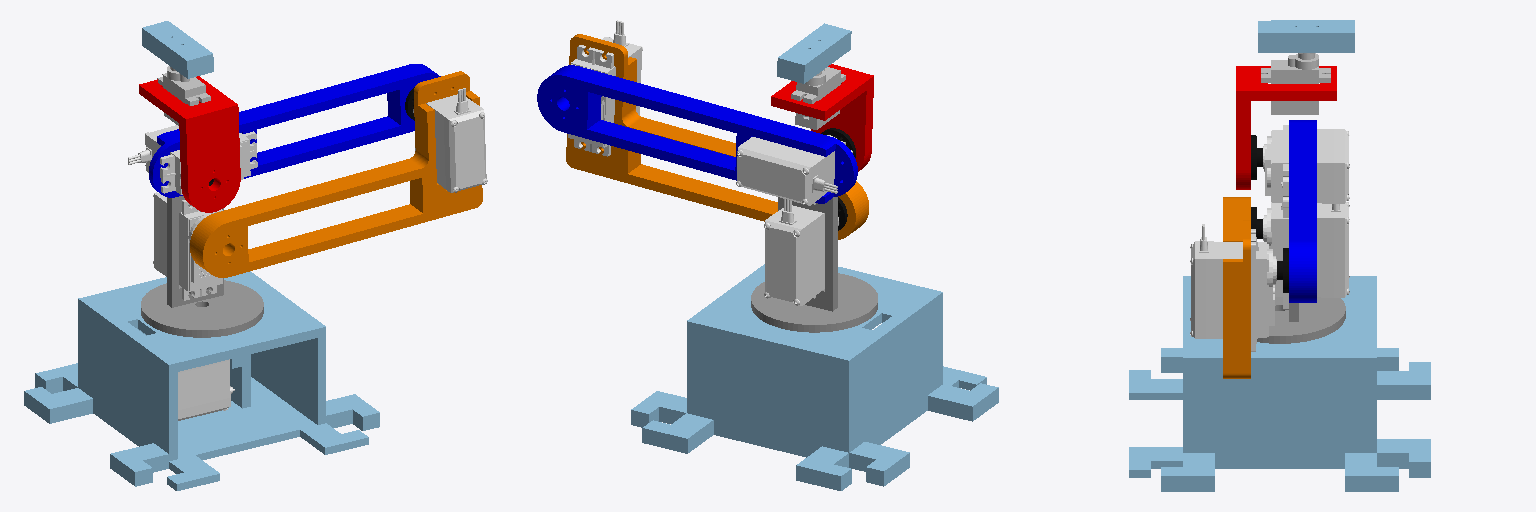
The robot description file, URDF, robot "dummy":
<robot name="dummy">
<link name="base_link"></link>
<joint name="base_link_to_base" type="fixed">
<parent link="base_link"/>
<child link="base" />
<origin rpy="0.0 0 0" xyz="0 0 0"/>
</joint>
<link name="base">
<visual>
<origin xyz="-0.034341769681692418947 -0.029995149875508213266 -0.09598587365390703896" rpy="-2.1394189185610447456e-05 1.2221860805481499953e-06 -1.4862894919532510474e-06" />
<geometry>
<mesh filename="package://dummy_description/model/base.stl"/>
</geometry>
<material name="base_material">
<color rgba="0.61568627450980395466 0.81176470588235294379 0.92941176470588238168 1.0"/>
</material>
</visual>
<collision>
<origin xyz="-0.034341769681692418947 -0.029995149875508213266 -0.09598587365390703896" rpy="-2.1394189185610447456e-05 1.2221860805481499953e-06 -1.4862894919532510474e-06" />
<geometry>
<mesh filename="package://dummy_description/model/base.stl"/>
</geometry>
</collision>
<inertial>
<origin xyz="0 0 0" rpy="0 0 0"/>
<mass value="0" />
<inertia ixx="0" ixy="0"  ixz="0" iyy="0" iyz="0" izz="0" />
</inertial>
</link>

<link name="mg996r_v2">
<visual>
<origin xyz="-0.01450000000000000247 -0.0050000000000000044409 0" rpy="3.141592653589793116 -5.5999995120941965104e-16 -1.5525792356708195226e-23" />
<geometry>
<mesh filename="package://dummy_description/model/mg996r_v2.stl"/>
</geometry>
<material name="mg996r_v2_material">
<color rgba="0.91764705882352937127 0.91764705882352937127 0.91764705882352937127 1.0"/>
</material>
</visual>
<collision>
<origin xyz="-0.01450000000000000247 -0.0050000000000000044409 0" rpy="3.141592653589793116 -5.5999995120941965104e-16 -1.5525792356708195226e-23" />
<geometry>
<mesh filename="package://dummy_description/model/mg996r_v2.stl"/>
</geometry>
</collision>
<inertial>
<origin xyz="-0.024255671585750013947 -0.0050000010606993453011 0.0088504927765015398849" rpy="0 0 0"/>
<mass value="0.055791861264000007503" />
<inertia ixx="8.604419841925513537e-06" ixy="-5.0486636963735341033e-12"  ixz="3.4441859625622045088e-08" iyy="1.4679957311313170841e-05" iyz="-1.0614227360729792485e-12" izz="9.7426395371235840814e-06" />
</inertial>
</link>

<link name="arm_round">
<visual>
<origin xyz="0 0 -0.00060000000000000330846" rpy="7.7307003030005483346e-16 -0 1.3780513642524905222e-19" />
<geometry>
<mesh filename="package://dummy_description/model/arm_round.stl"/>
</geometry>
<material name="arm_round_material">
<color rgba="0.098039215686274508443 0.098039215686274508443 0.098039215686274508443 1.0"/>
</material>
</visual>
<collision>
<origin xyz="0 0 -0.00060000000000000330846" rpy="7.7307003030005483346e-16 -0 1.3780513642524905222e-19" />
<geometry>
<mesh filename="package://dummy_description/model/arm_round.stl"/>
</geometry>
</collision>
<inertial>
<origin xyz="-9.1402416383345846518e-19 1.8365389579204425804e-18 0.0003179644200924597406" rpy="0 0 0"/>
<mass value="0.00045359236799999999665" />
<inertia ixx="1.215985462292992734e-08" ixy="2.006374141744112826e-27"  ixz="2.5564167074989649399e-43" iyy="1.2159854622929907487e-08" iyz="-8.401990311144505363e-24" izz="2.3028399552020600685e-08" />
</inertial>
</link>

<link name="part_1">
<visual>
<origin xyz="-6.9388939039072283776e-18 0 -0.0067499999999999921174" rpy="1.570796326794896558 3.3881317890172013563e-21 -8.3460481704463252107e-20" />
<geometry>
<mesh filename="package://dummy_description/model/part_1.stl"/>
</geometry>
<material name="part_1_material">
<color rgba="0.64705882352941179736 0.64705882352941179736 0.64705882352941179736 1.0"/>
</material>
</visual>
<collision>
<origin xyz="-6.9388939039072283776e-18 0 -0.0067499999999999921174" rpy="1.570796326794896558 3.3881317890172013563e-21 -8.3460481704463252107e-20" />
<geometry>
<mesh filename="package://dummy_description/model/part_1.stl"/>
</geometry>
</collision>
<inertial>
<origin xyz="0 0 0" rpy="0 0 0"/>
<mass value="0" />
<inertia ixx="0" ixy="0"  ixz="0" iyy="0" iyz="0" izz="0" />
</inertial>
</link>

<link name="mg996r_v2_2">
<visual>
<origin xyz="-0.014499999999999999001 0.0050000000000000044409 6.9388939039072283776e-18" rpy="3.141592653589793116 -5.5999719835234107457e-16 0" />
<geometry>
<mesh filename="package://dummy_description/model/mg996r_v2.stl"/>
</geometry>
<material name="mg996r_v2_material">
<color rgba="0.91764705882352937127 0.91764705882352937127 0.91764705882352937127 1.0"/>
</material>
</visual>
<collision>
<origin xyz="-0.014499999999999999001 0.0050000000000000044409 6.9388939039072283776e-18" rpy="3.141592653589793116 -5.5999719835234107457e-16 0" />
<geometry>
<mesh filename="package://dummy_description/model/mg996r_v2.stl"/>
</geometry>
</collision>
<inertial>
<origin xyz="-0.024255671585750010477 0.0049999989393006635807 0.0088504927765015468238" rpy="0 0 0"/>
<mass value="0.055791861264000007503" />
<inertia ixx="8.604419841925513537e-06" ixy="-5.0486636963735365267e-12"  ixz="3.4441859625622045088e-08" iyy="1.4679957311313160677e-05" iyz="-1.0614227360739326469e-12" izz="9.7426395371235840814e-06" />
</inertial>
</link>

<link name="arm_round_2">
<visual>
<origin xyz="4.8572257327350598644e-17 -7.6154360595381831445e-16 -0.00060000000000000330846" rpy="7.7307003030005483346e-16 -1.821120836596745729e-20 6.9388939039072283776e-18" />
<geometry>
<mesh filename="package://dummy_description/model/arm_round.stl"/>
</geometry>
<material name="arm_round_material">
<color rgba="0.098039215686274508443 0.098039215686274508443 0.098039215686274508443 1.0"/>
</material>
</visual>
<collision>
<origin xyz="4.8572257327350598644e-17 -7.6154360595381831445e-16 -0.00060000000000000330846" rpy="7.7307003030005483346e-16 -1.821120836596745729e-20 6.9388939039072283776e-18" />
<geometry>
<mesh filename="package://dummy_description/model/arm_round.stl"/>
</geometry>
</collision>
<inertial>
<origin xyz="4.7658208476428205288e-17 -7.5970707010608227541e-16 0.0003179644200924597406" rpy="0 0 0"/>
<mass value="0.00045359236799999999665" />
<inertia ixx="1.215985462292992734e-08" ixy="1.6875188223089306624e-25"  ixz="-3.9786392105523460438e-28" iyy="1.2159854622929907487e-08" iyz="-8.4020683343970771562e-24" izz="2.3028399552020600685e-08" />
</inertial>
</link>

<link name="seg_one">
<visual>
<origin xyz="0.053705249205231661569 -0.0037678245534087610041 0" rpy="1.570796326794896558 -9.8255821881498839332e-20 0" />
<geometry>
<mesh filename="package://dummy_description/model/seg_one.stl"/>
</geometry>
<material name="seg_one_material">
<color rgba="0.97254901960784312376 0.52941176470588235947 0.0039215686274509803377 1.0"/>
</material>
</visual>
<collision>
<origin xyz="0.053705249205231661569 -0.0037678245534087610041 0" rpy="1.570796326794896558 -9.8255821881498839332e-20 0" />
<geometry>
<mesh filename="package://dummy_description/model/seg_one.stl"/>
</geometry>
</collision>
<inertial>
<origin xyz="0.073771300976812836936 0.0036529407949094810405 -0.0063549844192667065759" rpy="0 0 0"/>
<mass value="0.037612434876134331896" />
<inertia ixx="9.9760979823098223782e-06" ixy="7.6048969708346972273e-06"  ixz="-3.0669320229206095414e-07" iyy="0.00010974651496353991201" iyz="2.5266205993602894391e-07" izz="0.00011864659667601922368" />
</inertial>
</link>

<link name="mg996r_v2_3">
<visual>
<origin xyz="-0.01450000000000000594 -0.0050000000000000044409 0" rpy="-3.141592653589793116 -5.6000058648413009177e-16 0" />
<geometry>
<mesh filename="package://dummy_description/model/mg996r_v2.stl"/>
</geometry>
<material name="mg996r_v2_material">
<color rgba="0.91764705882352937127 0.91764705882352937127 0.91764705882352937127 1.0"/>
</material>
</visual>
<collision>
<origin xyz="-0.01450000000000000594 -0.0050000000000000044409 0" rpy="-3.141592653589793116 -5.6000058648413009177e-16 0" />
<geometry>
<mesh filename="package://dummy_description/model/mg996r_v2.stl"/>
</geometry>
</collision>
<inertial>
<origin xyz="-0.024255671585750017416 -0.0050000010606993453011 0.0088504927765015398849" rpy="0 0 0"/>
<mass value="0.055791861264000007503" />
<inertia ixx="8.604419841925513537e-06" ixy="-5.0486636964753976799e-12"  ixz="3.4441859625622045088e-08" iyy="1.4679957311313160677e-05" iyz="-1.0614227360711142552e-12" izz="9.7426395371235840814e-06" />
</inertial>
</link>

<link name="arm_round_3">
<visual>
<origin xyz="5.5511151231257827021e-17 -7.6327832942979512154e-16 -0.00060000000000000330846" rpy="7.7307003030005483346e-16 -1.6474790824096141595e-19 -1.3877787807814456755e-17" />
<geometry>
<mesh filename="package://dummy_description/model/arm_round.stl"/>
</geometry>
<material name="arm_round_material">
<color rgba="0.098039215686274508443 0.098039215686274508443 0.098039215686274508443 1.0"/>
</material>
</visual>
<collision>
<origin xyz="5.5511151231257827021e-17 -7.6327832942979512154e-16 -0.00060000000000000330846" rpy="7.7307003030005483346e-16 -1.6474790824096141595e-19 -1.3877787807814456755e-17" />
<geometry>
<mesh filename="package://dummy_description/model/arm_round.stl"/>
</geometry>
</collision>
<inertial>
<origin xyz="5.4597228828771282395e-17 -7.6144179358205908251e-16 0.0003179644200924597406" rpy="0 0 0"/>
<mass value="0.00045359236799999999665" />
<inertia ixx="1.215985462292992734e-08" ixy="-2.5312782334633969119e-25"  ixz="4.5561339087447257919e-27" iyy="1.2159854622929907487e-08" iyz="-8.4020683343970771562e-24" izz="2.3028399552020600685e-08" />
</inertial>
</link>

<link name="seg_two">
<visual>
<origin xyz="-0.077810930135565364862 0.0039761346122250060264 0" rpy="1.570796326794896558 3.5151867311053464071e-20 -6.9388939039072283776e-18" />
<geometry>
<mesh filename="package://dummy_description/model/seg_two.stl"/>
</geometry>
<material name="seg_two_material">
<color rgba="0 0 1 1.0"/>
</material>
</visual>
<collision>
<origin xyz="-0.077810930135565364862 0.0039761346122250060264 0" rpy="1.570796326794896558 3.5151867311053464071e-20 -6.9388939039072283776e-18" />
<geometry>
<mesh filename="package://dummy_description/model/seg_two.stl"/>
</geometry>
</collision>
<inertial>
<origin xyz="-0.055769273953286062351 -0.0072499999999999908268 -0.0063626172418654374993" rpy="0 0 0"/>
<mass value="0.029688462028335856763" />
<inertia ixx="3.9557051917307471507e-06" ixy="-5.3559460113775659767e-22"  ixz="3.7971686273580715876e-07" iyy="7.3231611483650041624e-05" iyz="-2.6348150240482701071e-24" izz="7.6338616733640028266e-05" />
</inertial>
</link>

<link name="mg996r_v2_4">
<visual>
<origin xyz="0.034500000000000002887 -0.0050000000000000044409 6.9388939039072283776e-18" rpy="3.141592653589793116 -5.5989682494809143998e-16 0" />
<geometry>
<mesh filename="package://dummy_description/model/mg996r_v2.stl"/>
</geometry>
<material name="mg996r_v2_material">
<color rgba="0.91764705882352937127 0.91764705882352937127 0.91764705882352937127 1.0"/>
</material>
</visual>
<collision>
<origin xyz="0.034500000000000002887 -0.0050000000000000044409 6.9388939039072283776e-18" rpy="3.141592653589793116 -5.5989682494809143998e-16 0" />
<geometry>
<mesh filename="package://dummy_description/model/mg996r_v2.stl"/>
</geometry>
</collision>
<inertial>
<origin xyz="0.02474432841424999141 -0.0050000010606993453011 0.0088504927765015468238" rpy="0 0 0"/>
<mass value="0.055791861264000007503" />
<inertia ixx="8.604419841925513537e-06" ixy="-5.0486636963735349111e-12"  ixz="3.4441859625622045088e-08" iyy="1.4679957311313164065e-05" iyz="-1.0614227360730287259e-12" izz="9.7426395371235840814e-06" />
</inertial>
</link>

<link name="arm_round_4">
<visual>
<origin xyz="4.8572257327350598644e-17 -7.6327832942979512154e-16 -0.00059999999999998943068" rpy="7.729872328294607256e-16 -0 -6.9388939039072283776e-18" />
<geometry>
<mesh filename="package://dummy_description/model/arm_round.stl"/>
</geometry>
<material name="arm_round_material">
<color rgba="0.098039215686274508443 0.098039215686274508443 0.098039215686274508443 1.0"/>
</material>
</visual>
<collision>
<origin xyz="4.8572257327350598644e-17 -7.6327832942979512154e-16 -0.00059999999999998943068" rpy="7.729872328294607256e-16 -0 -6.9388939039072283776e-18" />
<geometry>
<mesh filename="package://dummy_description/model/arm_round.stl"/>
</geometry>
</collision>
<inertial>
<origin xyz="4.7658226943148275499e-17 -7.6144182759970133916e-16 0.0003179644200924736726" rpy="0 0 0"/>
<mass value="0.00045359236799999999665" />
<inertia ixx="1.215985462292992734e-08" ixy="-2.5312782334633950752e-25"  ixz="-1.5604650514491139621e-28" iyy="1.2159854622929904178e-08" iyz="-8.4039285189276586925e-24" izz="2.3028399552020600685e-08" />
</inertial>
</link>

<link name="wrist">
<visual>
<origin xyz="-0.0095673749088002330021 0.0042428395003080363046 -1.3877787807814456755e-17" rpy="1.570796326794896558 -3.3881317890172013563e-21 0" />
<geometry>
<mesh filename="package://dummy_description/model/wrist.stl"/>
</geometry>
<material name="wrist_material">
<color rgba="1 0 0 1.0"/>
</material>
</visual>
<collision>
<origin xyz="-0.0095673749088002330021 0.0042428395003080363046 -1.3877787807814456755e-17" rpy="1.570796326794896558 -3.3881317890172013563e-21 0" />
<geometry>
<mesh filename="package://dummy_description/model/wrist.stl"/>
</geometry>
</collision>
<inertial>
<origin xyz="-0.02123892266227190434 0.007251744678150364061 0.0034385594773949910465" rpy="0 0 0"/>
<mass value="0.015756700876425590307" />
<inertia ixx="3.8723770744738582133e-06" ixy="-5.8386587936273831987e-10"  ixz="1.7778041728369363583e-06" iyy="6.9165476072320897601e-06" iyz="1.9074357937994583022e-10" izz="5.5585937893164216975e-06" />
</inertial>
</link>

<link name="servo-sg90-final">
<visual>
<origin xyz="0 0.024849999999999997091 0.015899999999999997469" rpy="3.141592653589793116 -6.9388939039072283776e-18 1.1498472258977127103e-19" />
<geometry>
<mesh filename="package://dummy_description/model/servo-sg90-final.stl"/>
</geometry>
<material name="servo-sg90-final_material">
<color rgba="0.81960784313725487671 0.81960784313725487671 0.81960784313725487671 1.0"/>
</material>
</visual>
<collision>
<origin xyz="0 0.024849999999999997091 0.015899999999999997469" rpy="3.141592653589793116 -6.9388939039072283776e-18 1.1498472258977127103e-19" />
<geometry>
<mesh filename="package://dummy_description/model/servo-sg90-final.stl"/>
</geometry>
</collision>
<inertial>
<origin xyz="0 0 0" rpy="0 0 0"/>
<mass value="0" />
<inertia ixx="0" ixy="0"  ixz="0" iyy="0" iyz="0" izz="0" />
</inertial>
</link>

<link name="final-2-arms-horn">
<visual>
<origin xyz="0 6.9388939039072283776e-18 -0.0020000000000000156541" rpy="6.9388939039072283776e-18 3.3881317890172013563e-21 -1.9164120431628545171e-20" />
<geometry>
<mesh filename="package://dummy_description/model/final-2-arms-horn.stl"/>
</geometry>
<material name="final-2-arms-horn_material">
<color rgba="0.81960784313725487671 0.81960784313725487671 0.81960784313725487671 1.0"/>
</material>
</visual>
<collision>
<origin xyz="0 6.9388939039072283776e-18 -0.0020000000000000156541" rpy="6.9388939039072283776e-18 3.3881317890172013563e-21 -1.9164120431628545171e-20" />
<geometry>
<mesh filename="package://dummy_description/model/final-2-arms-horn.stl"/>
</geometry>
</collision>
<inertial>
<origin xyz="0 0 0" rpy="0 0 0"/>
<mass value="0" />
<inertia ixx="0" ixy="0"  ixz="0" iyy="0" iyz="0" izz="0" />
</inertial>
</link>

<link name="ee">
<visual>
<origin xyz="-0.0033949863910675143197 0.0081407796735145504519 0" rpy="3.141592653589793116 3.3881317890172013563e-21 7.4433020239971642296e-20" />
<geometry>
<mesh filename="package://dummy_description/model/ee.stl"/>
</geometry>
<material name="ee_material">
<color rgba="0.61568627450980395466 0.81176470588235294379 0.92941176470588238168 1.0"/>
</material>
</visual>
<collision>
<origin xyz="-0.0033949863910675143197 0.0081407796735145504519 0" rpy="3.141592653589793116 3.3881317890172013563e-21 7.4433020239971642296e-20" />
<geometry>
<mesh filename="package://dummy_description/model/ee.stl"/>
</geometry>
</collision>
<inertial>
<origin xyz="0 0 0" rpy="0 0 0"/>
<mass value="0" />
<inertia ixx="0" ixy="0"  ixz="0" iyy="0" iyz="0" izz="0" />
</inertial>
</link>

<joint name="ee" type="fixed">
<origin xyz="-0.0050000000000000044409 6.9388939039072283776e-18 -0.0020000000000000156541" rpy="2.0816681711721675888e-17 3.5182360497154520276e-17 -8.5796560150450912835e-16" />
<parent link="final-2-arms-horn" />
<child link="ee" />
<axis xyz="0 0 1"/>
<limit effort="1" velocity="20" />
<joint_properties friction="0.0"/>
</joint>

<joint name="wristr" type="revolute">
<origin xyz="6.9388939039072283776e-18 0.0082499999999999934497 -0.013999999999999998557" rpy="1.2004286453759497205e-15 -6.8497860378561265184e-17 -1.5707963207310067233" />
<parent link="servo-sg90-final" />
<child link="final-2-arms-horn" />
<axis xyz="0 0 1"/>
<limit effort="1" velocity="20" lower="0" upper="3.141592653589793116"/>
<joint_properties friction="0.0"/>
</joint>

<joint name="wristr_mount" type="fixed">
<origin xyz="-0.039999999999999980016 0.0072500000000000064393 0.034000000000000009381" rpy="-1.570796326794896558 -5.8966664491229107969e-16 -1.570796326794896558" />
<parent link="wrist" />
<child link="servo-sg90-final" />
<axis xyz="0 0 1"/>
<limit effort="1" velocity="20" />
<joint_properties friction="0.0"/>
</joint>

<joint name="wrist_mount" type="fixed">
<origin xyz="4.1633363423443370266e-17 0.0071999999999992347899 0.0019000000000000266676" rpy="3.141592653589793116 1.9587128685487484756e-15 -7.8409501114152252592e-16" />
<parent link="arm_round_4" />
<child link="wrist" />
<axis xyz="0 0 1"/>
<limit effort="1" velocity="20" />
<joint_properties friction="0.0"/>
</joint>

<joint name="wrist" type="revolute">
<origin xyz="0.034538107933987871601 -0.0050000032706329772259 -0.01549999999999999295" rpy="-3.1415926535897855665 8.3616720860691773698e-16 -1.5707963267948976682" />
<parent link="mg996r_v2_4" />
<child link="arm_round_4" />
<axis xyz="0 0 1"/>
<limit effort="1" velocity="20" lower="-0" upper="3.141592653589793116"/>
<joint_properties friction="0.0"/>
</joint>

<joint name="wrist_servo" type="fixed">
<origin xyz="-0.099000000000000018541 -0.0022499999999999881206 0" rpy="-3.1415926535897926719 5.0856376960828415199e-16 -3.141592653589793116" />
<parent link="seg_two" />
<child link="mg996r_v2_4" />
<axis xyz="0 0 1"/>
<limit effort="1" velocity="20" />
<joint_properties friction="0.0"/>
</joint>

<joint name="forearm_mount" type="fixed">
<origin xyz="5.5511151231257827021e-17 -0.0072000000000007613465 0.0018999999999999919731" rpy="-3.1415926535897926719 -6.6629369224388344028e-16 0" />
<parent link="arm_round_3" />
<child link="seg_two" />
<axis xyz="0 0 1"/>
<limit effort="1" velocity="20" />
<joint_properties friction="0.0"/>
</joint>

<joint name="elbow" type="revolute">
<origin xyz="-0.014461892066012123348 -0.0050000032706329772259 -0.01549999999999999295" rpy="-3.141592653589793116 -2.8072184884609522565e-15 -1.5707963267949354158" />
<parent link="mg996r_v2_3" />
<child link="arm_round_3" />
<axis xyz="0 0 1"/>
<limit effort="1" velocity="20" lower="-0" upper="3.141592653589793116"/>
<joint_properties friction="0.0"/>
</joint>

<joint name="elbow_servo" type="fixed">
<origin xyz="0.125 -0.041750000000000016265 0" rpy="-3.1415926535897913396 -1.0939599920378727413e-16 -1.570796326794896558" />
<parent link="seg_one" />
<child link="mg996r_v2_3" />
<axis xyz="0 0 1"/>
<limit effort="1" velocity="20" />
<joint_properties friction="0.0"/>
</joint>

<joint name="shoulder_horn" type="fixed">
<origin xyz="4.8572257327350598644e-17 0.0071999999999992417288 0.001899999999999998912" rpy="-3.1415926535897917837 4.1494132382737779046e-17 5.5511151231256939553e-17" />
<parent link="arm_round_2" />
<child link="seg_one" />
<axis xyz="0 0 1"/>
<limit effort="1" velocity="20" />
<joint_properties friction="0.0"/>
</joint>

<joint name="shoulder" type="revolute">
<origin xyz="-0.01446189206601211294 0.0049999967293670177781 -0.015499999999999979072" rpy="3.1415926535897926719 -4.5286110422765151629e-15 1.5367034096982505886" />
<parent link="mg996r_v2_2" />
<child link="arm_round_2" />
<axis xyz="0 0 1"/>
<limit effort="1" velocity="20" lower="-0" upper="3.141592653589793116"/>
<joint_properties friction="0.0"/>
</joint>

<joint name="shoulder_joint" type="fixed">
<origin xyz="-0.0039999999999999688582 0.0050000000000000113798 -0.065749999999999989009" rpy="-3.141592653589793116 1.570796326794896558 0" />
<parent link="part_1" />
<child link="mg996r_v2_2" />
<axis xyz="0 0 1"/>
<limit effort="1" velocity="20" />
<joint_properties friction="0.0"/>
</joint>

<joint name="joint" type="fixed">
<origin xyz="4.1633363423443370266e-17 4.1633363423443370266e-17 0.0019000000000000058509" rpy="-3.141592653589793116 7.0439937520025449219e-16 -1.570796326794896558" />
<parent link="arm_round" />
<child link="part_1" />
<axis xyz="0 0 1"/>
<limit effort="1" velocity="20" />
<joint_properties friction="0.0"/>
</joint>

<joint name="torso" type="revolute">
<origin xyz="-0.01446189206601211294 -0.0050000032706329772259 -0.01549999999999999295" rpy="-3.141592653589793116 -5.8824087670381847472e-16 -0.00060706039085584560539" />
<parent link="mg996r_v2" />
<child link="arm_round" />
<axis xyz="0 0 1"/>
<limit effort="1" velocity="20" lower="-2.356194490192344837" upper="0.785398163397448279"/>
<joint_properties friction="0.0"/>
</joint>

<joint name="servo_joint" type="fixed">
<origin xyz="-0.028538075398620611767 -0.060918143323766021924 -0.062985219167393094453" rpy="3.141571259400607552 1.2221860805481506306e-06 -1.4862894919532512592e-06" />
<parent link="base" />
<child link="mg996r_v2" />
<axis xyz="0 0 1"/>
<limit effort="1" velocity="20" />
<joint_properties friction="0.0"/>
</joint>


</robot>

--- Render facts (derived) ---
The picture shows the robot from 3 angles, left to right: view 1: azimuth 30°, elevation 25°; view 2: azimuth 150°, elevation 25°; view 3: azimuth 270°, elevation 25°; orthographic projection.
Robot: dummy — 17 links, 16 joints (5 revolute, 11 fixed); root link base_link; default pose: all joints at 0.
Links seen in each view (by area): view 1: base, seg_one, seg_two, wrist, part_1, mg996r_v2_3, mg996r_v2_2, mg996r_v2, ee, mg996r_v2_4, servo-sg90-final; view 2: base, seg_two, seg_one, part_1, mg996r_v2_2, mg996r_v2_4, wrist, ee, mg996r_v2_3, servo-sg90-final; view 3: base, mg996r_v2_3, seg_two, seg_one, mg996r_v2_2, mg996r_v2_4, wrist, ee, part_1, servo-sg90-final.
Boxes of the visible links, x1,y1,x2,y2 form: base: (24,271,379,490); seg_one: (190,71,482,277); seg_two: (149,64,440,197); wrist: (139,76,240,212); part_1: (141,196,263,337); mg996r_v2_3: (413,88,487,192); mg996r_v2_2: (153,192,222,300); mg996r_v2: (178,359,234,420); ee: (142,21,213,78); mg996r_v2_4: (128,125,257,194); servo-sg90-final: (157,66,210,125); base: (631,264,998,490); seg_two: (537,65,857,203); seg_one: (566,34,868,239); part_1: (751,197,877,332); mg996r_v2_2: (764,199,838,305); mg996r_v2_4: (736,124,852,205); wrist: (771,64,873,171); ee: (777,23,851,83); mg996r_v2_3: (568,20,642,156); servo-sg90-final: (791,67,845,129); base: (1129,276,1430,491); mg996r_v2_3: (1190,224,1276,351); seg_two: (1289,120,1316,302); seg_one: (1223,197,1250,378); mg996r_v2_2: (1263,202,1349,309); mg996r_v2_4: (1263,125,1349,207); wrist: (1236,66,1336,189); ee: (1258,20,1354,52); part_1: (1257,297,1345,343); servo-sg90-final: (1261,53,1330,114).
Size in the robot's own frame: 0.2153 by 0.14 by 0.2022 metres.
Meshes: 10 distinct files referenced, 16 mesh visuals loaded (10 binary STL).
